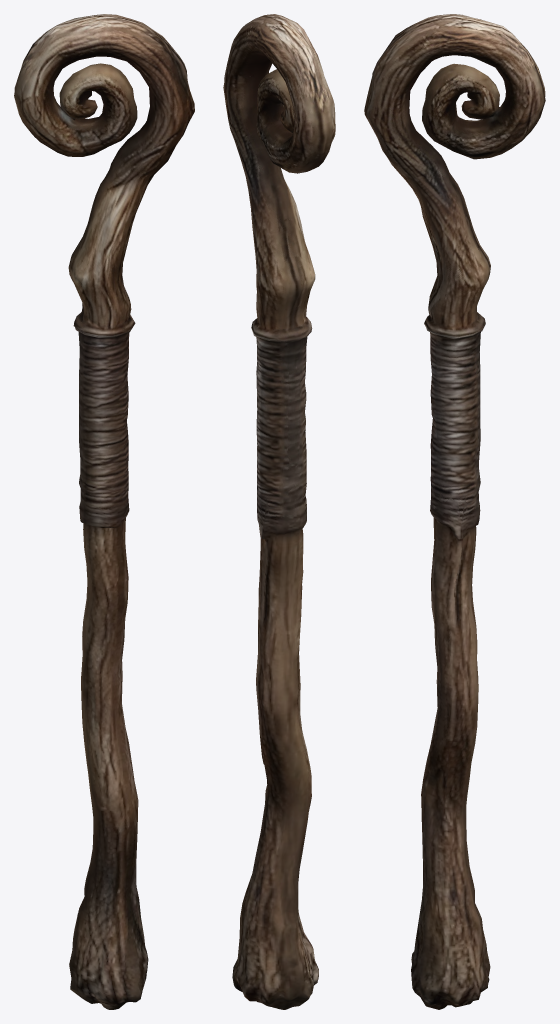
The model's file is gnarled_crook.glb.
The picture shows the model from 3 angles, left to right: view 1: azimuth 90°, elevation 25°; view 2: azimuth 210°, elevation 25°; view 3: azimuth 270°, elevation 25°; orthographic projection.
Parts seen in each view (by area): view 1: gnarled_crook; view 2: gnarled_crook; view 3: gnarled_crook.
Boxes of the visible parts, <box> form: gnarled_crook: <box>14,14,194,1009</box>; gnarled_crook: <box>223,14,335,1009</box>; gnarled_crook: <box>364,14,545,1009</box>.
Size of the model in its own units: 0.1251 by 1.5 by 0.2491.
1 material, 1 textured.
